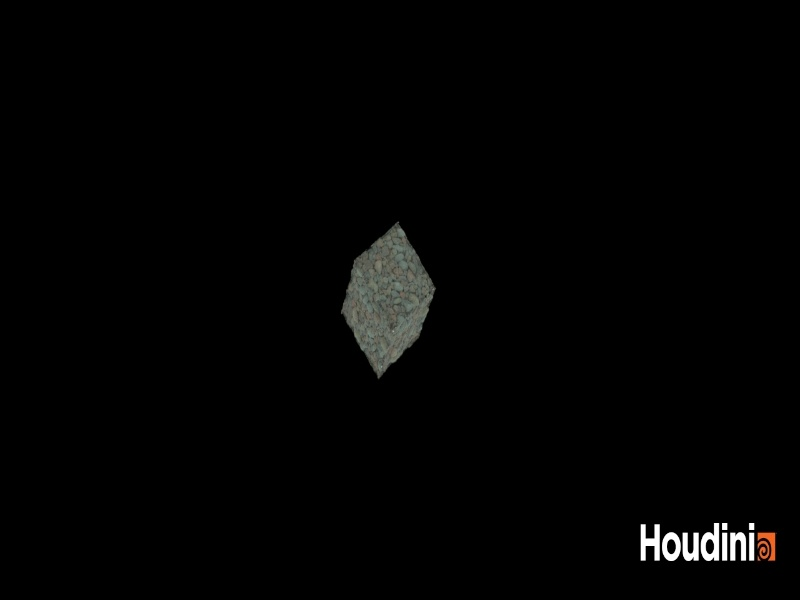waste: (333, 211, 442, 384)
